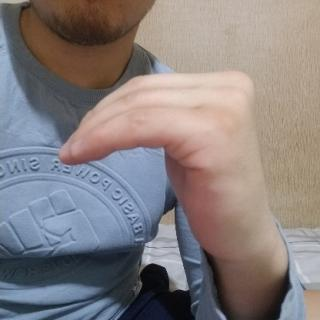HAA: (54, 67, 284, 268)
